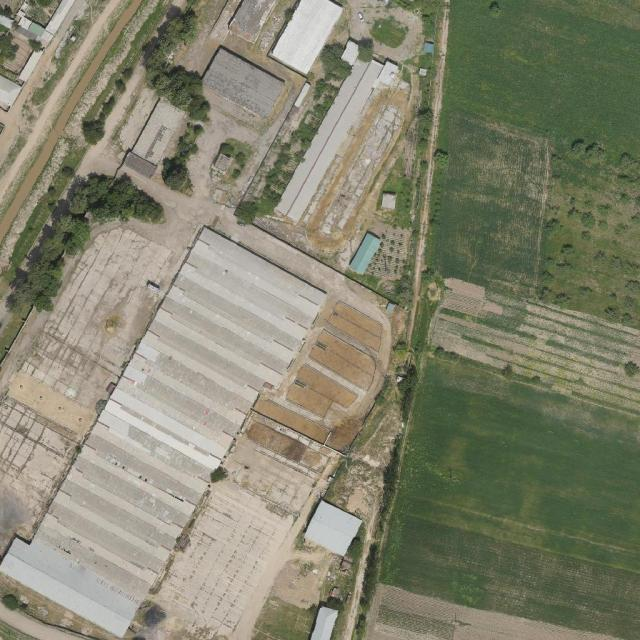agricultural_land: (376, 348, 640, 640), (422, 271, 640, 417), (422, 272, 640, 417), (431, 112, 557, 292), (269, 541, 332, 612), (1, 32, 36, 76), (111, 77, 128, 95)
building: (0, 221, 333, 640), (272, 52, 387, 224), (199, 47, 286, 121), (302, 498, 363, 558), (284, 362, 342, 418), (347, 230, 383, 276), (122, 150, 158, 180), (16, 46, 44, 84), (310, 605, 339, 640), (304, 419, 332, 445), (338, 39, 363, 66), (380, 191, 396, 211), (27, 23, 45, 40), (422, 39, 436, 55), (0, 15, 14, 30), (17, 16, 32, 29), (385, 302, 396, 314)
dryland: (149, 412, 341, 640), (422, 271, 640, 417), (153, 475, 296, 640), (157, 77, 286, 207), (334, 0, 431, 67), (307, 330, 382, 391), (244, 419, 308, 465), (325, 312, 385, 353), (193, 170, 227, 196)
greenland: (245, 74, 340, 225), (358, 428, 409, 610), (137, 7, 212, 128), (69, 174, 164, 223), (74, 93, 129, 147), (367, 11, 411, 53), (391, 362, 422, 421), (158, 153, 194, 198), (216, 131, 255, 168), (20, 0, 60, 28), (389, 0, 444, 14), (325, 596, 345, 611), (28, 36, 44, 54), (60, 166, 75, 177)
